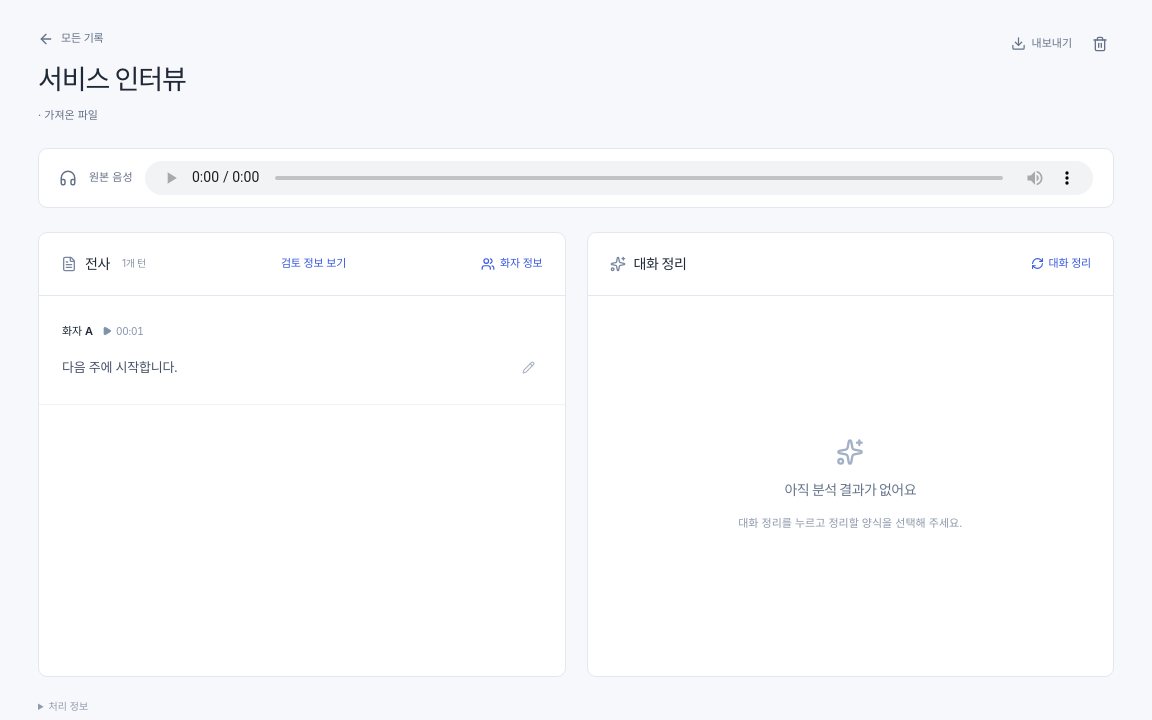
Test: only offers summary export when analysis exists
Click the heading "내보내기" at (1041,44), box 1010,36 -> 1072,52
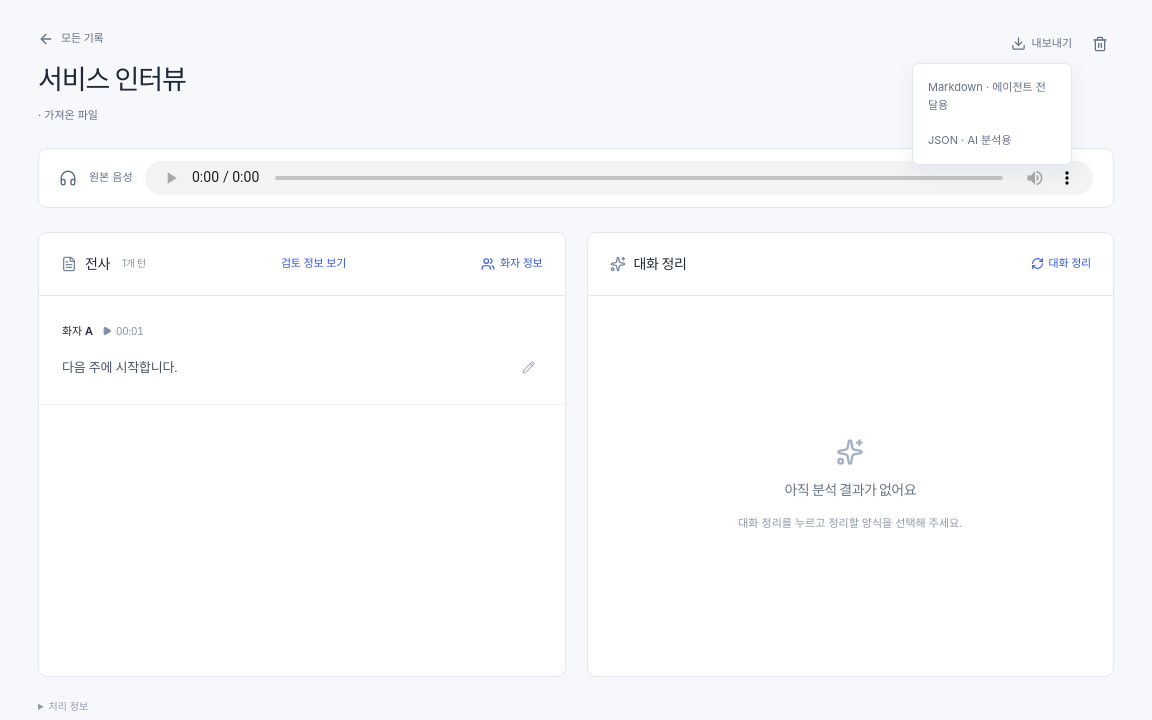
Expected: the link "Markdown · 에이전트 전달용" is shown, 928,80 -> 1046,112
